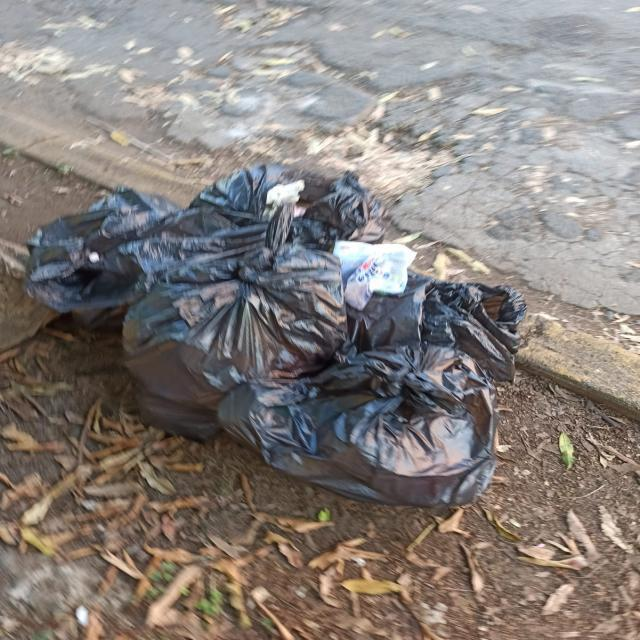Trashbag: (327, 339, 513, 538), (143, 250, 315, 412), (40, 204, 243, 254), (231, 163, 364, 239), (383, 285, 534, 348)
